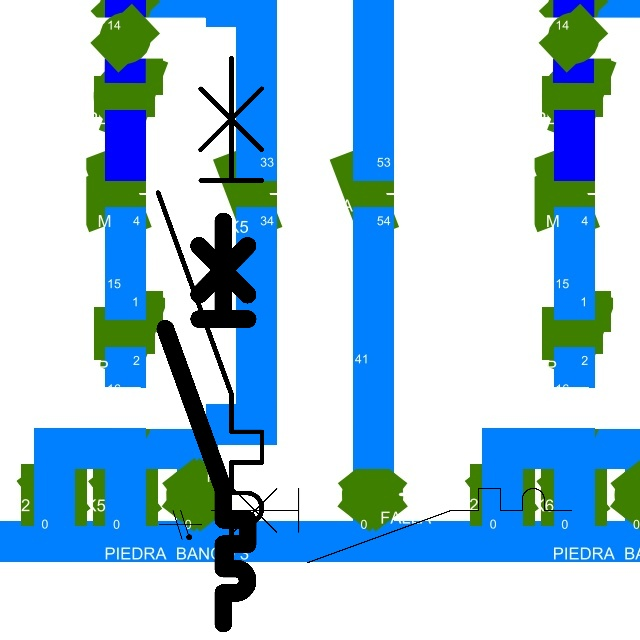interruptor_termomagnetico: (145, 45, 275, 575), (155, 211, 258, 634), (201, 479, 580, 571)
